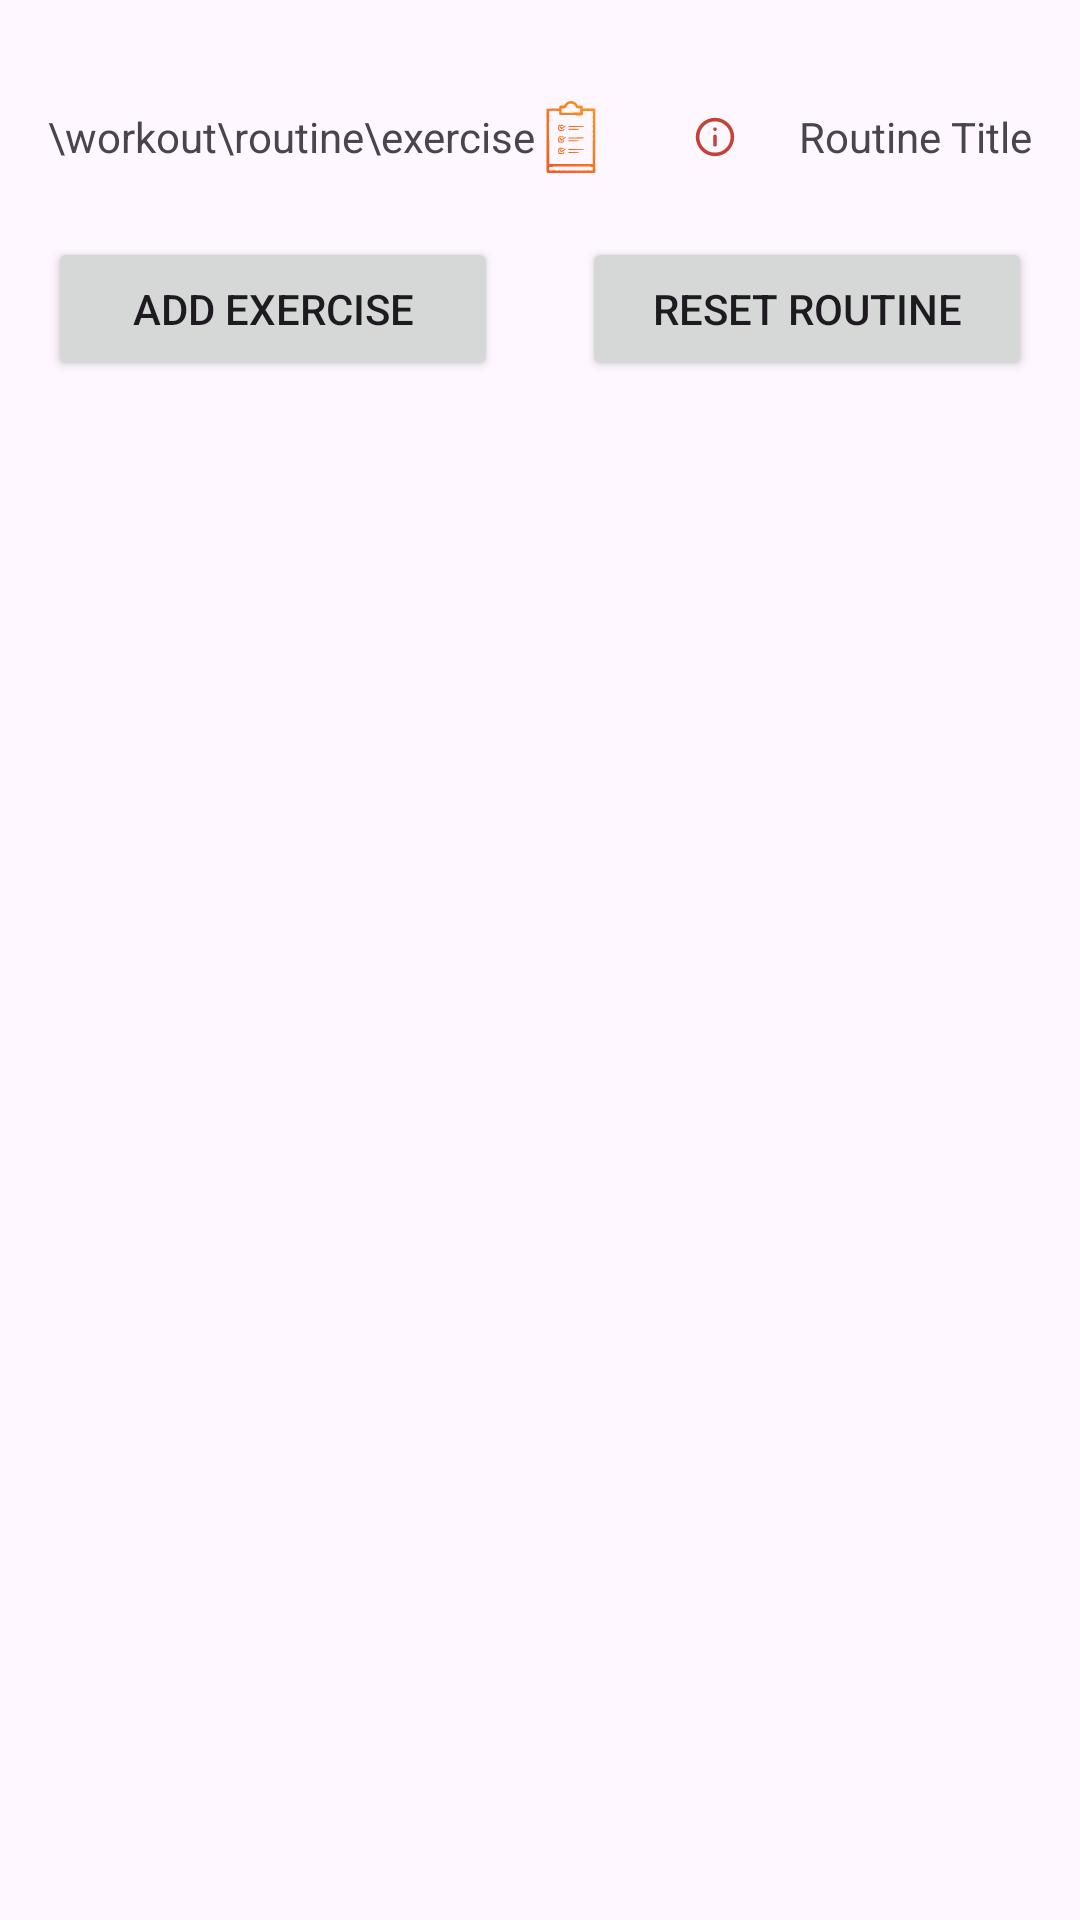

Screen size 1080 × 1920. Icon name, then its center in pixels as point (x, y):
info: point (715, 137)
